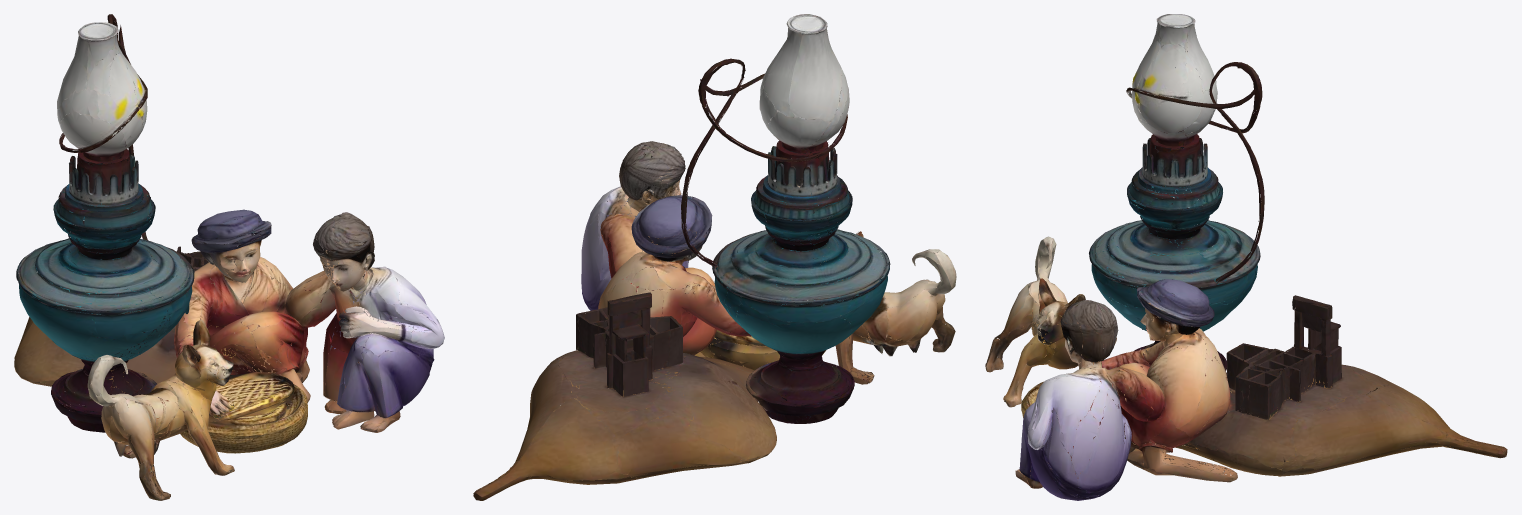
File: tatden.glb
3 renders of one model, left to right at view 1: azimuth 30°, elevation 25°; view 2: azimuth 150°, elevation 25°; view 3: azimuth 270°, elevation 25°, orthographic. The views are drawn at different scales.
Parts seen in each view (by area): view 1: node_0; view 2: node_0; view 3: node_0.
Part boxes in pixels (left/top/right/bottom): node_0: left=14, top=14, right=444, bottom=500; node_0: left=473, top=14, right=956, bottom=500; node_0: left=985, top=14, right=1507, bottom=500.
Bounding box in the file's own units: 0.6438 × 0.6781 × 0.8711.
Materials: 1 (1 with a texture image).
